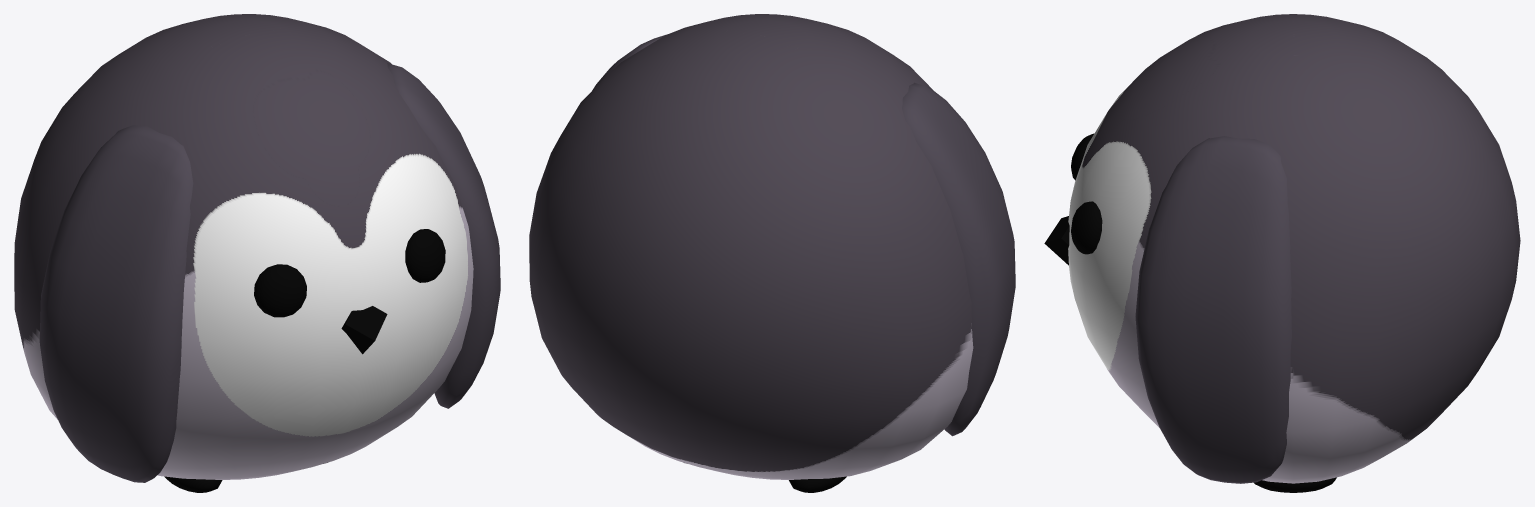
File: Penguin.fbx
3 views of the same model, side by side, from view 1: azimuth 30°, elevation 25°; view 2: azimuth 150°, elevation 25°; view 3: azimuth 270°, elevation 25° (orthographic). The views are drawn at different scales.
Parts seen in each view (by area): view 1: Body, Fin, Eyes, Beak, Foot; view 2: Body, Fin, Foot; view 3: Body, Fin, Eyes, Beak, Foot.
Part boxes in pixels (x1=…): Body: x1=14, y1=14, x2=473, y2=479; Fin: x1=39, y1=63, x2=500, y2=482; Eyes: x1=254, y1=229, x2=445, y2=317; Beak: x1=341, y1=306, x2=387, y2=354; Foot: x1=164, y1=462, x2=327, y2=492; Body: x1=529, y1=14, x2=973, y2=479; Fin: x1=593, y1=34, x2=1015, y2=436; Foot: x1=789, y1=476, x2=846, y2=492; Body: x1=1068, y1=14, x2=1520, y2=483; Fin: x1=1135, y1=136, x2=1291, y2=483; Eyes: x1=1071, y1=133, x2=1102, y2=254; Beak: x1=1044, y1=216, x2=1069, y2=265; Foot: x1=1254, y1=477, x2=1336, y2=492.
Size of the model in its own units: 217 by 210 by 207.
